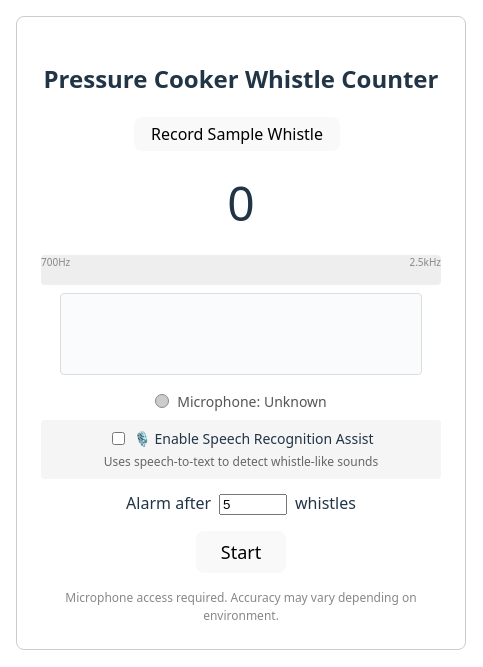
Test: WhistleCounter › starts and stops listening
Click the button "Start": [241, 552] box top-left (196, 531), bottom-right (286, 573)
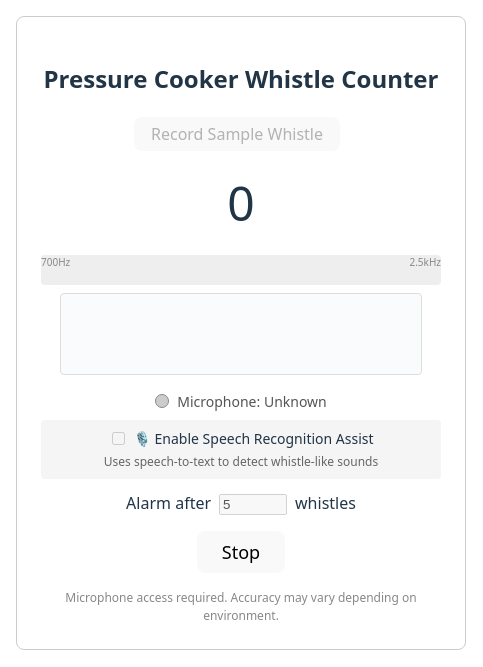
expect the button "Stop" is shown: met
Click the button "Stop": [241, 552] box top-left (197, 531), bottom-right (285, 573)
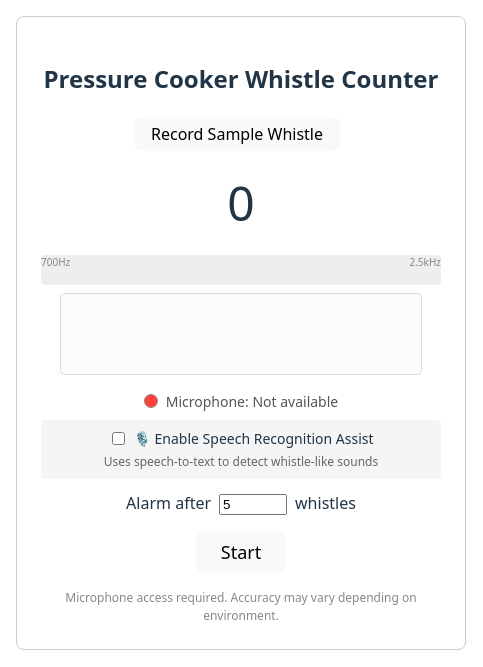
expect the button "Start" is shown: met, box top-left (196, 531), bottom-right (286, 573)
